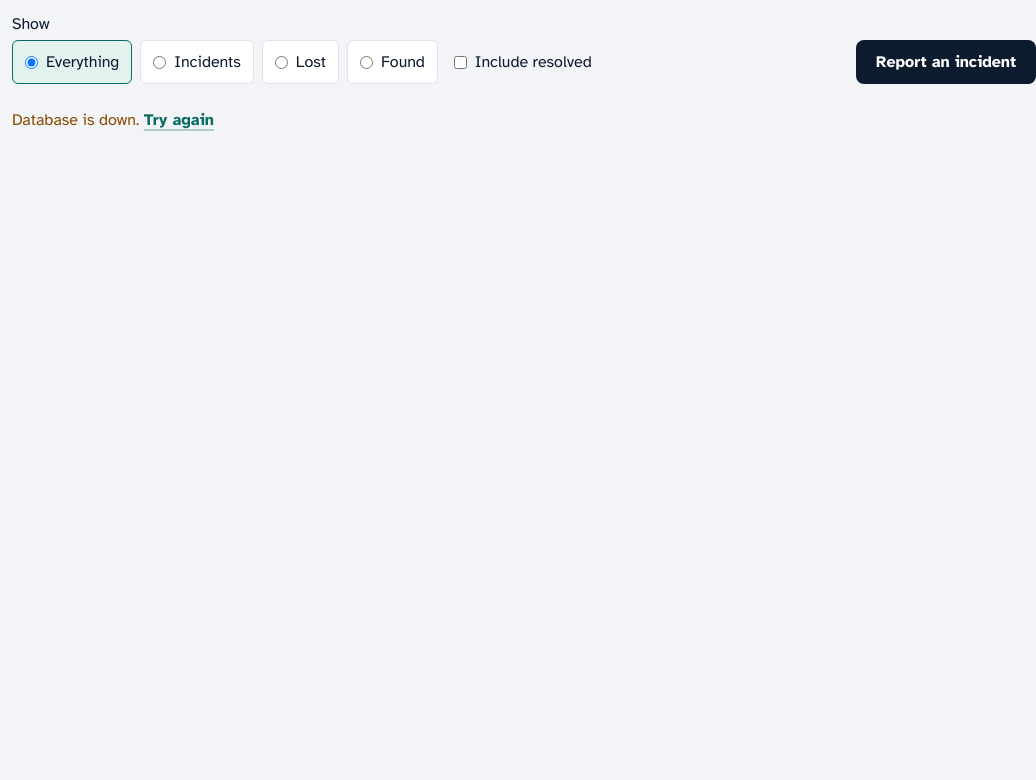
Scenario: IncidentsExplorer › asks for resolved posts and offers a retry on failure
Check: the message shows "Database is down.", box [12,110,139,130]
Click the checkbox labelled "Include resolved" at (460, 62), box [454,56,467,68]
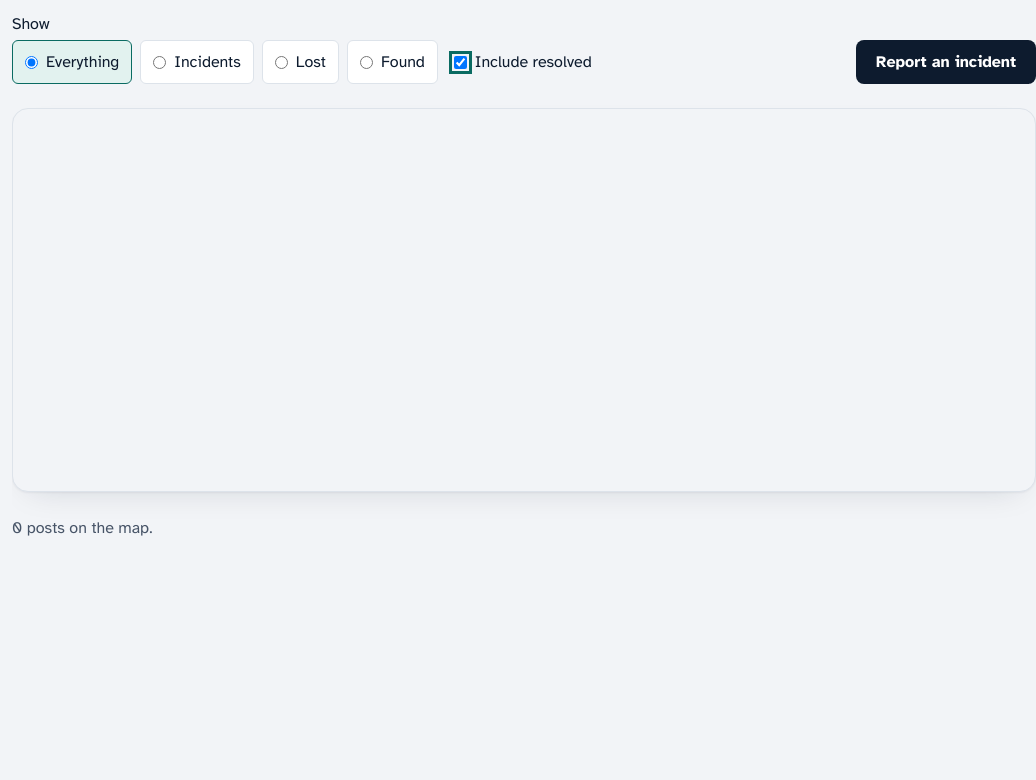
Check: the text "0 posts on the map." is shown, box [12,518,152,538]
